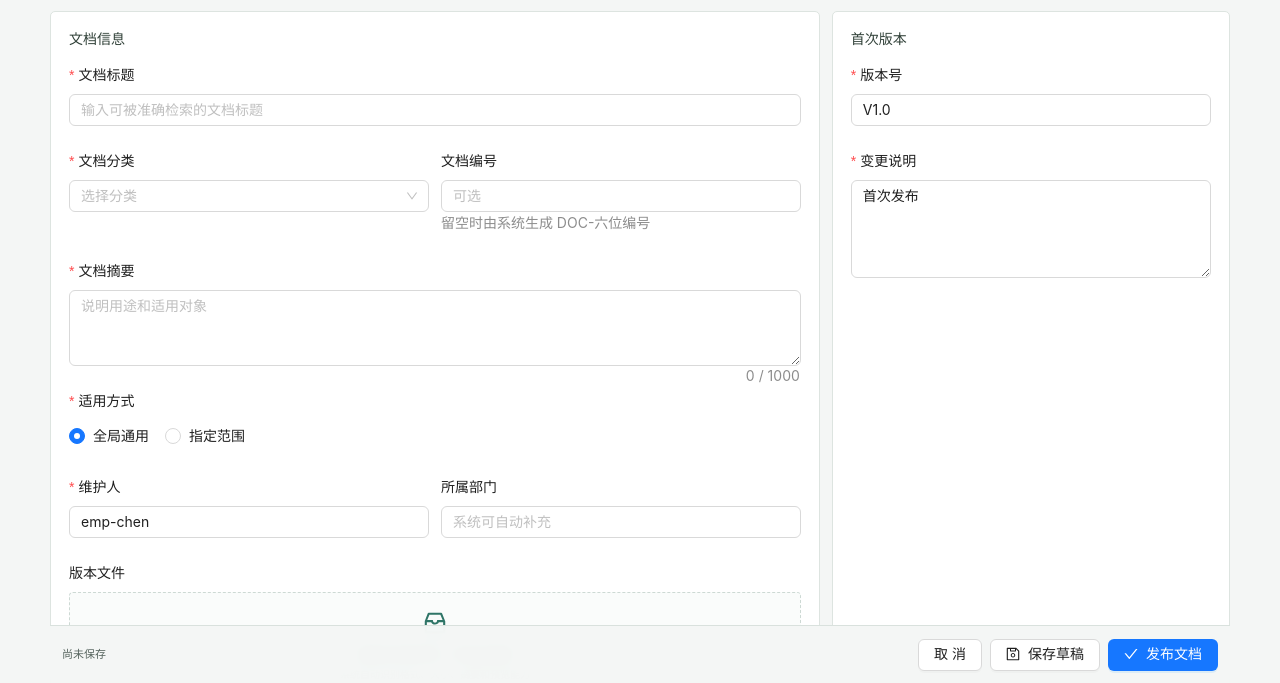
Scenario: DocumentCreatePage › requires a scope row when the document applies to a specified range
This screenshot has width=1280, height=683.
What coordinates should you click on to do the following:
click the radio button labelled "指定范围"
I would click on:
 (209, 436)
Its box is [165,425,253,447].
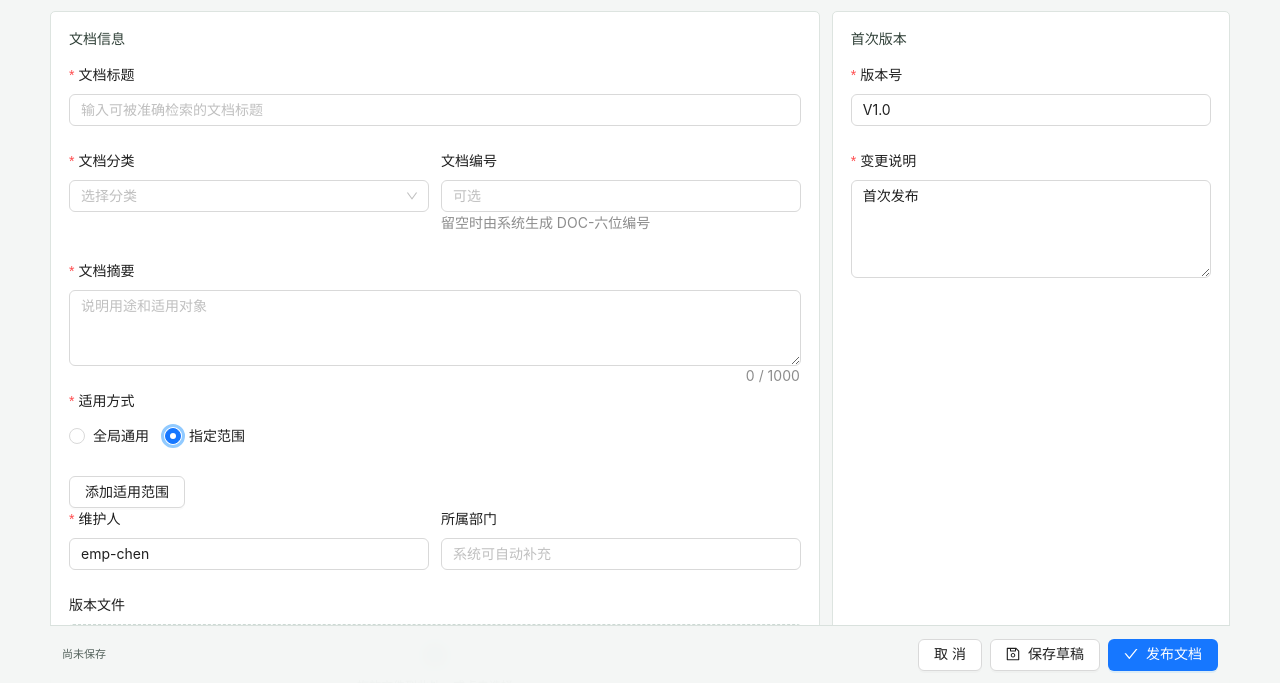
What coordinates should you click on to do the following:
click the button "保存草稿"
I would click on:
 (1045, 654)
Its box is [990,638,1100,670].
(page scrolled)
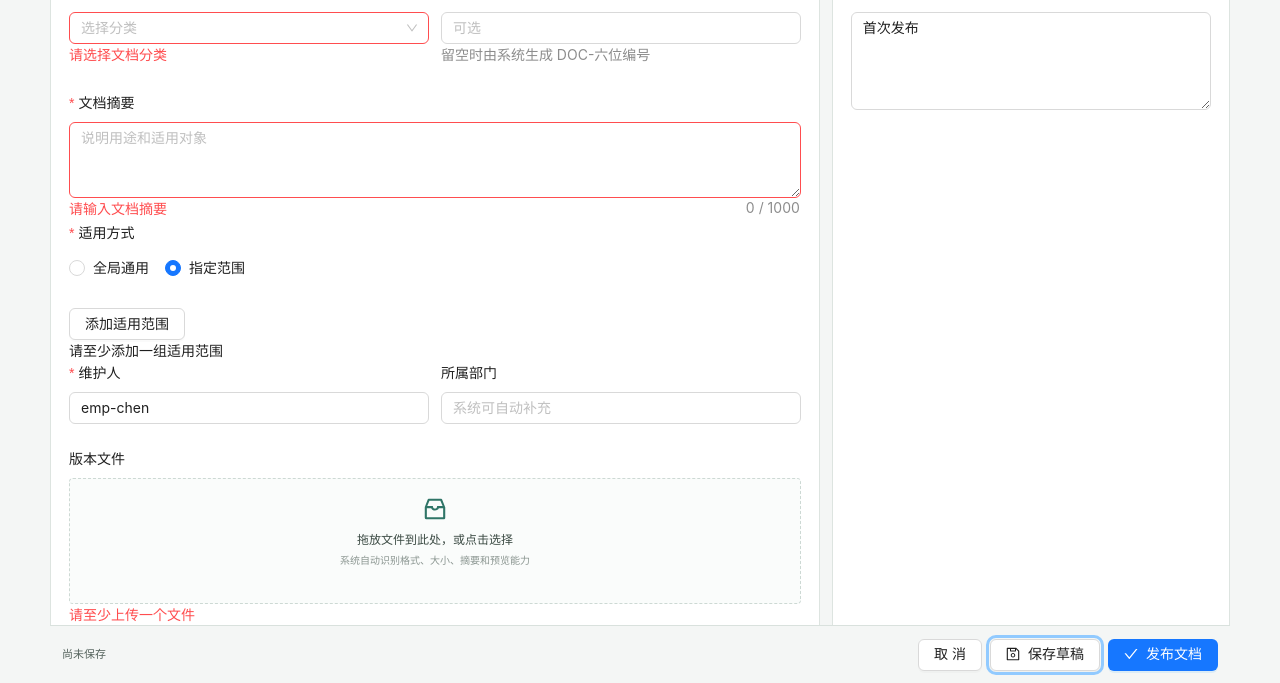
Now the text "请至少添加一组适用范围" is shown, box [69,342,223,359]
